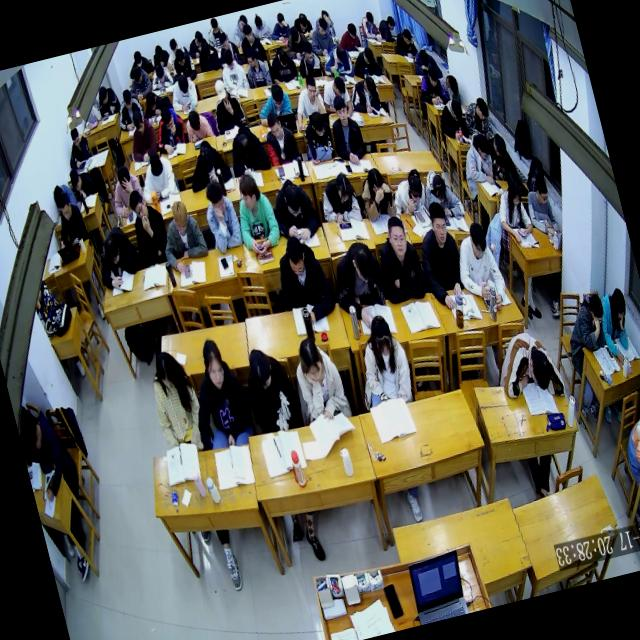bow: (488, 322, 568, 410), (267, 172, 322, 245), (90, 222, 146, 292), (181, 134, 234, 193), (418, 164, 466, 226), (222, 119, 272, 178), (388, 170, 429, 217), (319, 42, 356, 82), (180, 104, 214, 144), (349, 43, 383, 81), (68, 164, 100, 202), (411, 45, 443, 83), (193, 36, 222, 74), (138, 86, 166, 125)
down: (294, 334, 326, 384), (524, 343, 556, 392), (244, 345, 276, 393), (347, 240, 379, 286), (368, 312, 396, 358), (282, 234, 310, 278), (151, 349, 177, 392), (17, 413, 44, 452), (203, 178, 228, 216), (280, 180, 304, 218), (169, 198, 192, 237), (466, 220, 489, 258), (100, 234, 123, 268), (364, 165, 386, 198), (429, 170, 449, 204), (196, 142, 217, 174), (332, 170, 353, 202), (586, 292, 607, 324), (405, 170, 425, 202), (504, 175, 524, 207), (307, 108, 327, 139), (234, 129, 254, 160), (146, 147, 166, 178), (473, 131, 493, 162), (264, 110, 284, 140), (267, 81, 287, 110), (490, 131, 510, 159), (115, 162, 134, 190), (57, 190, 74, 220), (474, 95, 491, 123), (212, 77, 230, 103), (158, 103, 175, 130), (534, 178, 550, 206), (330, 74, 348, 98), (448, 98, 465, 123), (130, 108, 146, 134), (425, 62, 441, 88), (185, 108, 202, 132), (220, 46, 236, 70), (176, 73, 192, 95), (360, 44, 376, 66), (68, 166, 82, 191), (300, 38, 314, 62), (362, 75, 378, 96), (143, 90, 158, 112), (120, 88, 134, 111), (96, 83, 110, 105), (130, 62, 144, 84), (240, 20, 254, 42), (296, 10, 310, 32), (334, 44, 348, 66), (417, 48, 431, 70), (153, 64, 167, 85), (172, 46, 186, 67), (198, 39, 212, 60), (288, 23, 302, 44), (446, 74, 460, 95), (217, 30, 230, 52), (68, 128, 82, 148), (235, 12, 249, 32), (345, 19, 358, 40), (167, 36, 180, 56), (316, 16, 329, 36), (276, 48, 289, 68), (192, 29, 205, 48), (401, 27, 413, 46), (132, 48, 144, 66), (152, 42, 164, 60), (252, 14, 264, 32), (384, 14, 396, 32), (364, 10, 376, 28), (208, 17, 220, 34), (276, 11, 286, 29)
lookup: (200, 336, 228, 391), (382, 214, 410, 259), (425, 198, 451, 244), (126, 186, 149, 222), (332, 94, 349, 124), (304, 73, 320, 101)
sit: (176, 331, 258, 454), (142, 345, 210, 458), (407, 196, 471, 312), (268, 229, 338, 328), (350, 310, 417, 412), (236, 338, 305, 436), (322, 238, 392, 332), (16, 406, 82, 504), (366, 210, 430, 308), (286, 328, 351, 424), (447, 218, 510, 314), (226, 169, 285, 260), (152, 194, 211, 274), (122, 184, 174, 269), (558, 290, 614, 358), (594, 286, 640, 366), (198, 176, 245, 254), (322, 89, 368, 168), (490, 173, 536, 246), (314, 170, 363, 230), (454, 129, 500, 192), (132, 145, 180, 205), (205, 74, 249, 136), (520, 174, 562, 238), (354, 163, 398, 224), (48, 188, 91, 250), (257, 106, 301, 166), (286, 72, 329, 132), (104, 162, 148, 220), (297, 106, 337, 164), (148, 102, 190, 156), (122, 106, 161, 164), (252, 81, 294, 129), (484, 129, 520, 185), (442, 278, 482, 326), (616, 404, 640, 482), (412, 61, 450, 110), (317, 72, 354, 122), (460, 94, 496, 144), (215, 44, 250, 94), (434, 96, 471, 143), (292, 34, 326, 82), (110, 85, 145, 131), (164, 71, 200, 114), (236, 20, 268, 66), (240, 45, 272, 91), (346, 74, 382, 114), (61, 123, 92, 168), (264, 44, 298, 85), (166, 43, 198, 84), (280, 21, 312, 62), (304, 14, 335, 56), (122, 61, 154, 101), (212, 29, 242, 70), (123, 47, 155, 80), (92, 80, 121, 116), (334, 19, 363, 54), (356, 8, 382, 46), (392, 26, 420, 60), (203, 16, 227, 55), (266, 10, 292, 44), (228, 12, 252, 48), (438, 70, 462, 106), (248, 9, 274, 42), (290, 7, 314, 40), (376, 12, 400, 44), (148, 42, 171, 70)
